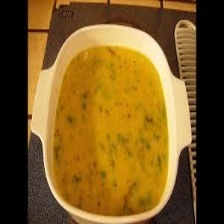dal: (47, 44, 170, 216)
